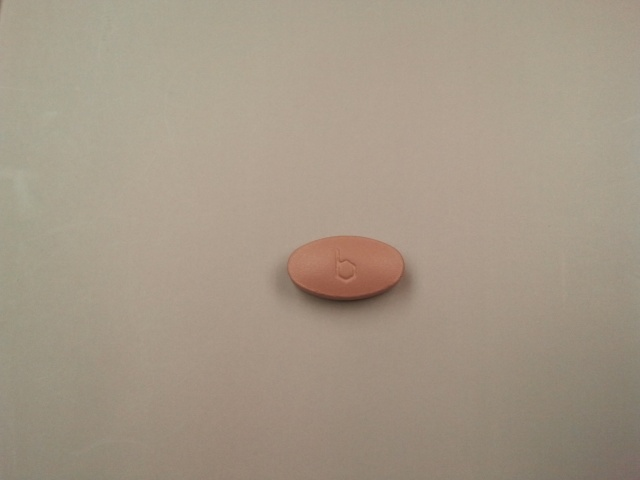b: (329, 244, 361, 287)
